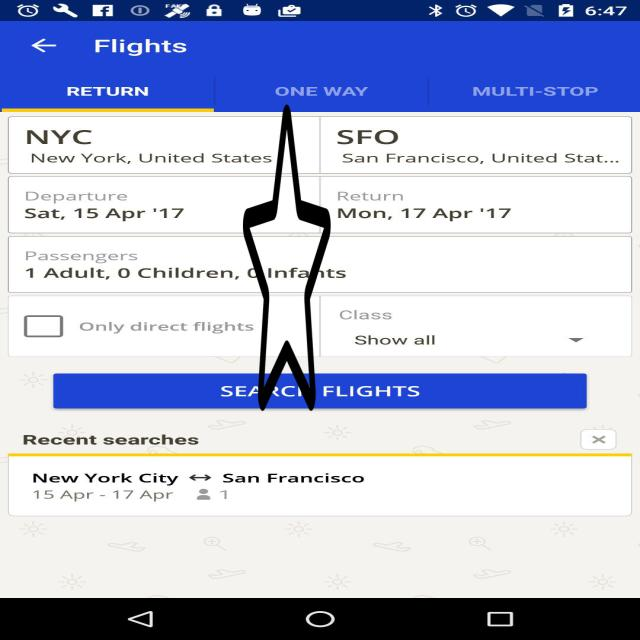forced continuity: (243, 98, 331, 417)
